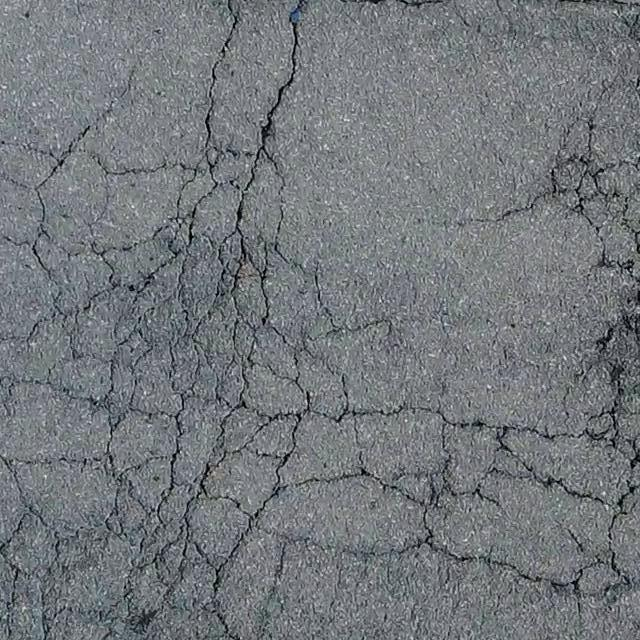GRIETA: (256, 0, 306, 148), (203, 0, 237, 151)
PIEL DE COCODRILO: (0, 63, 639, 639)
